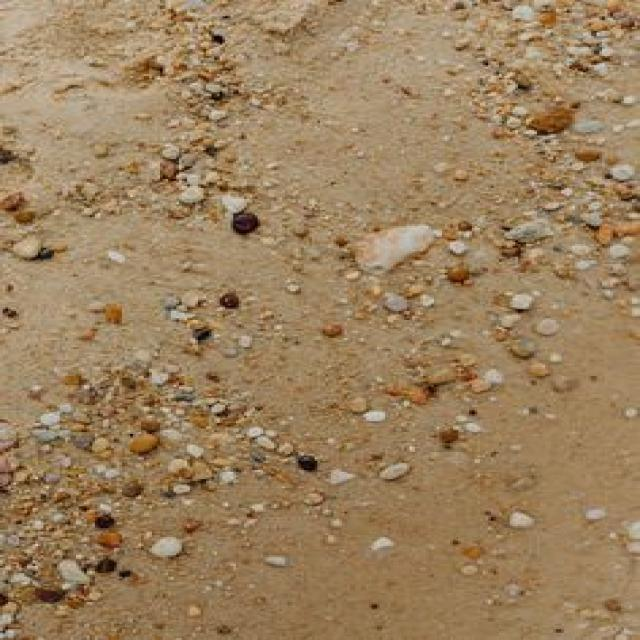red-sand: (0, 0, 639, 639)
stone: (0, 330, 502, 607), (328, 53, 639, 327), (0, 133, 279, 261), (447, 0, 639, 79), (128, 26, 260, 130), (164, 290, 256, 357), (490, 290, 559, 379), (139, 519, 201, 559), (79, 301, 124, 340)
